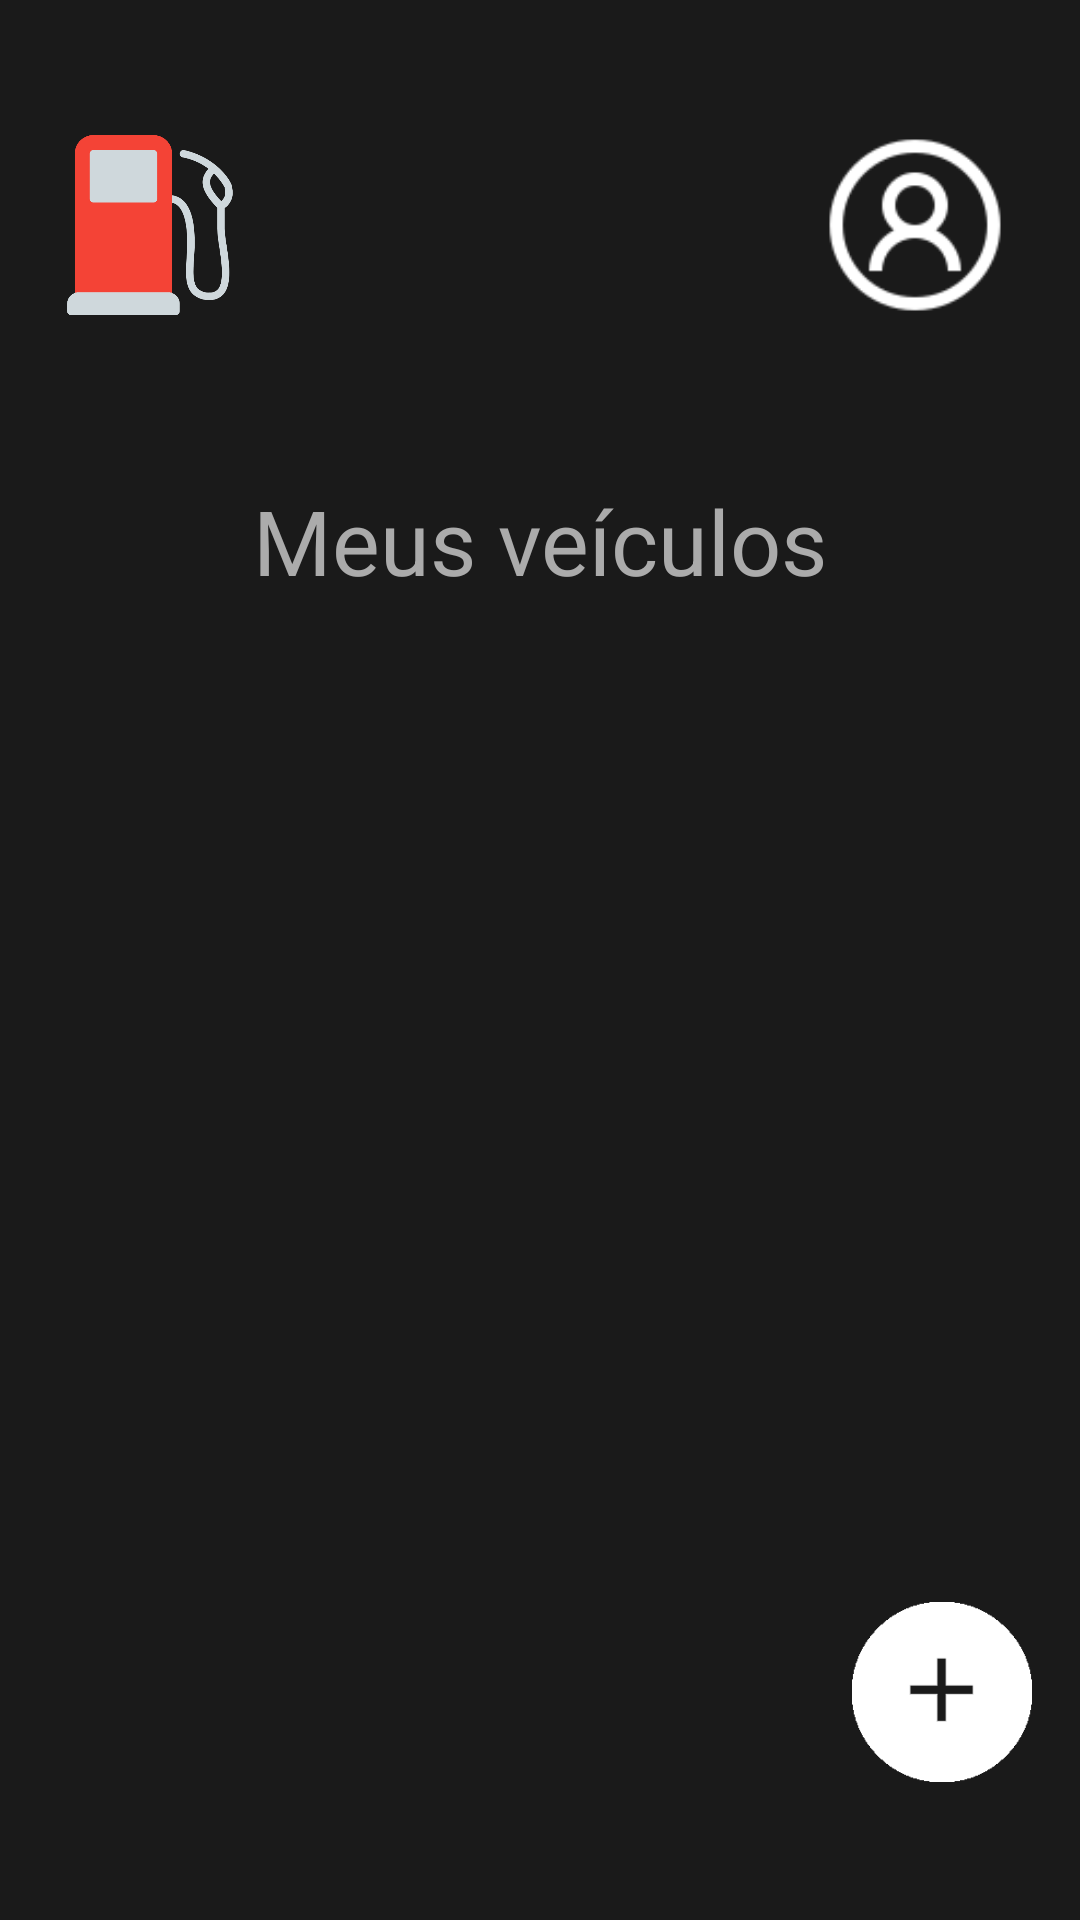

Named icons in this screenshot (1080×1920) and their centers, point (x, y):
Adicionar veículo: point (942, 1692)
Perfil: point (915, 225)
